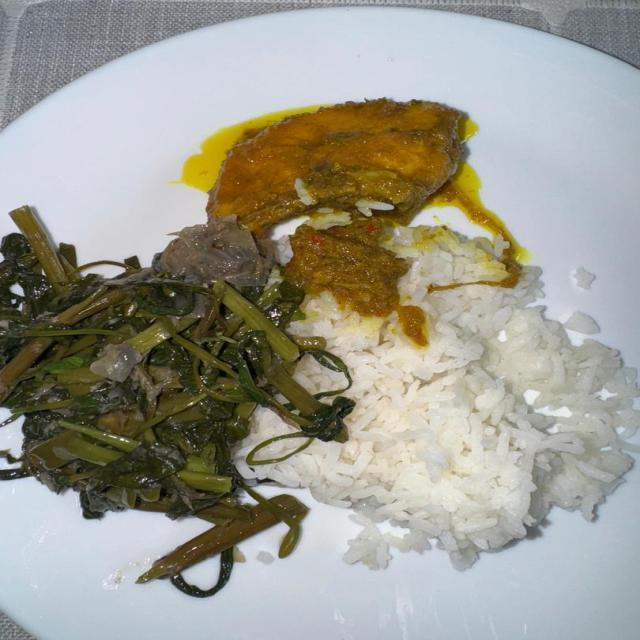Fish: (207, 95, 470, 253)
Plate: (0, 10, 639, 364)
Rice: (218, 228, 636, 574)
Vegetables: (0, 204, 357, 603)
